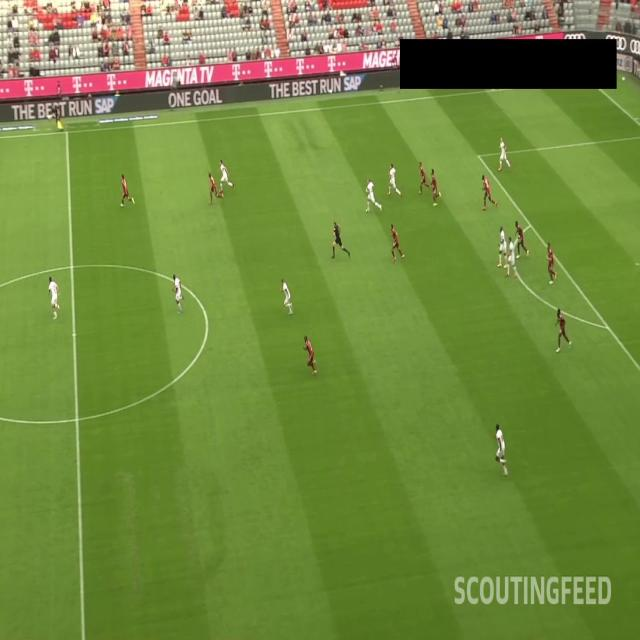player: (491, 422, 511, 479), (168, 268, 188, 318), (45, 273, 63, 322), (116, 171, 137, 212), (387, 222, 406, 265), (218, 155, 236, 199), (301, 332, 319, 376), (555, 308, 572, 354), (384, 163, 404, 201), (365, 176, 383, 218), (514, 219, 531, 262), (207, 168, 225, 208), (542, 243, 558, 288), (416, 158, 432, 198), (482, 172, 498, 210), (280, 278, 295, 318), (497, 224, 510, 268), (498, 136, 512, 174), (430, 168, 442, 210), (507, 236, 518, 280)
referee: (330, 217, 351, 260), (54, 102, 64, 134)
